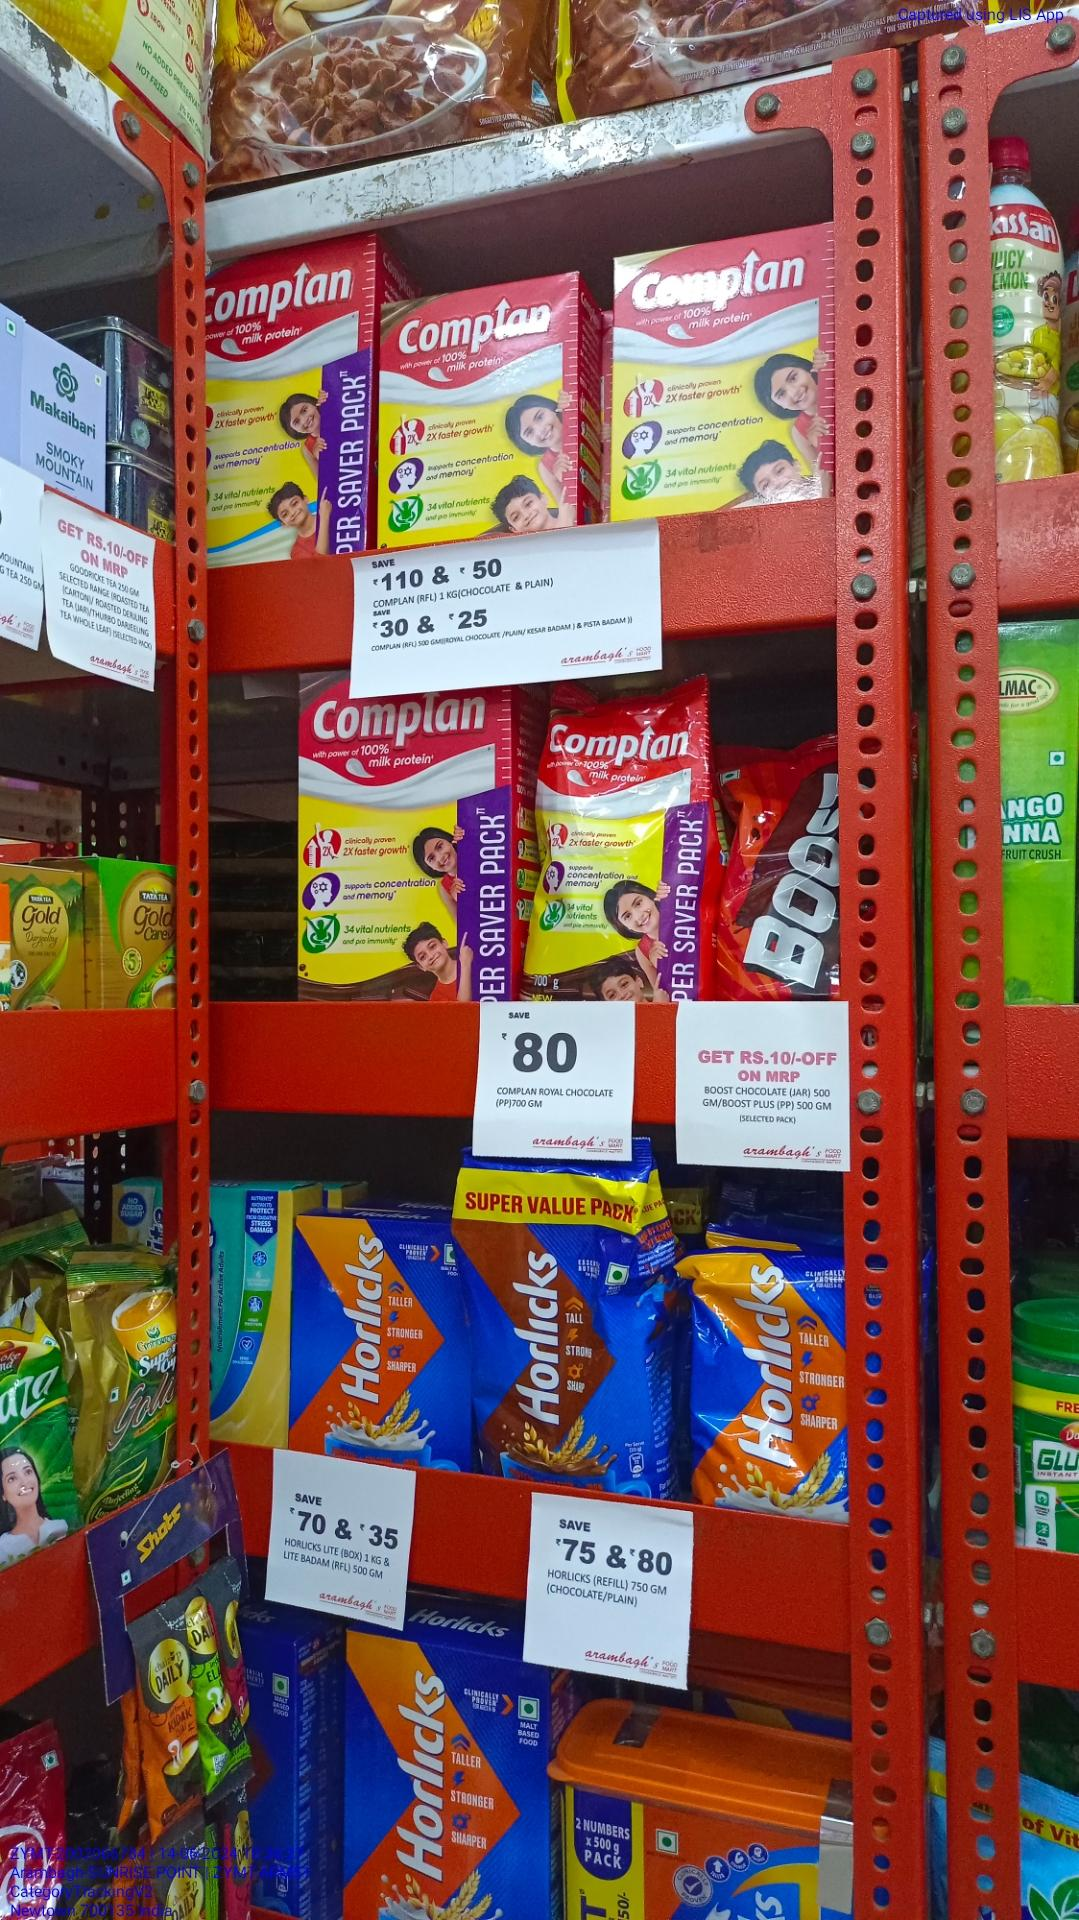COMPLAN_CHOCOLATE_1_KG_PACK: (299, 688, 521, 997)
COMPLAN_CHOCOLATE_500_GMS_PACK: (380, 286, 583, 531)
COMPLAN_KESAR_BADAM_500_GMS_PACK: (613, 244, 831, 493)
COMPLAN_RC_POUCH_700_GMS_12: (529, 684, 704, 997)
HORLICK_CHOCOLATE_750_G_POUCH: (475, 1158, 658, 1502)
HORLICK_CLASSIC_MALT_500_G_PACK: (297, 1213, 463, 1468)
